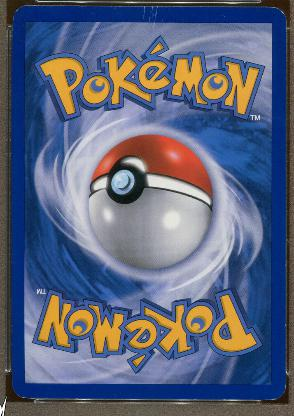Card: (10, 3, 288, 403)
Corner Wear: (11, 5, 35, 23), (261, 386, 286, 402), (17, 394, 38, 400), (276, 7, 284, 18)
Scratch: (141, 6, 157, 22), (269, 116, 279, 120), (151, 23, 154, 29)
